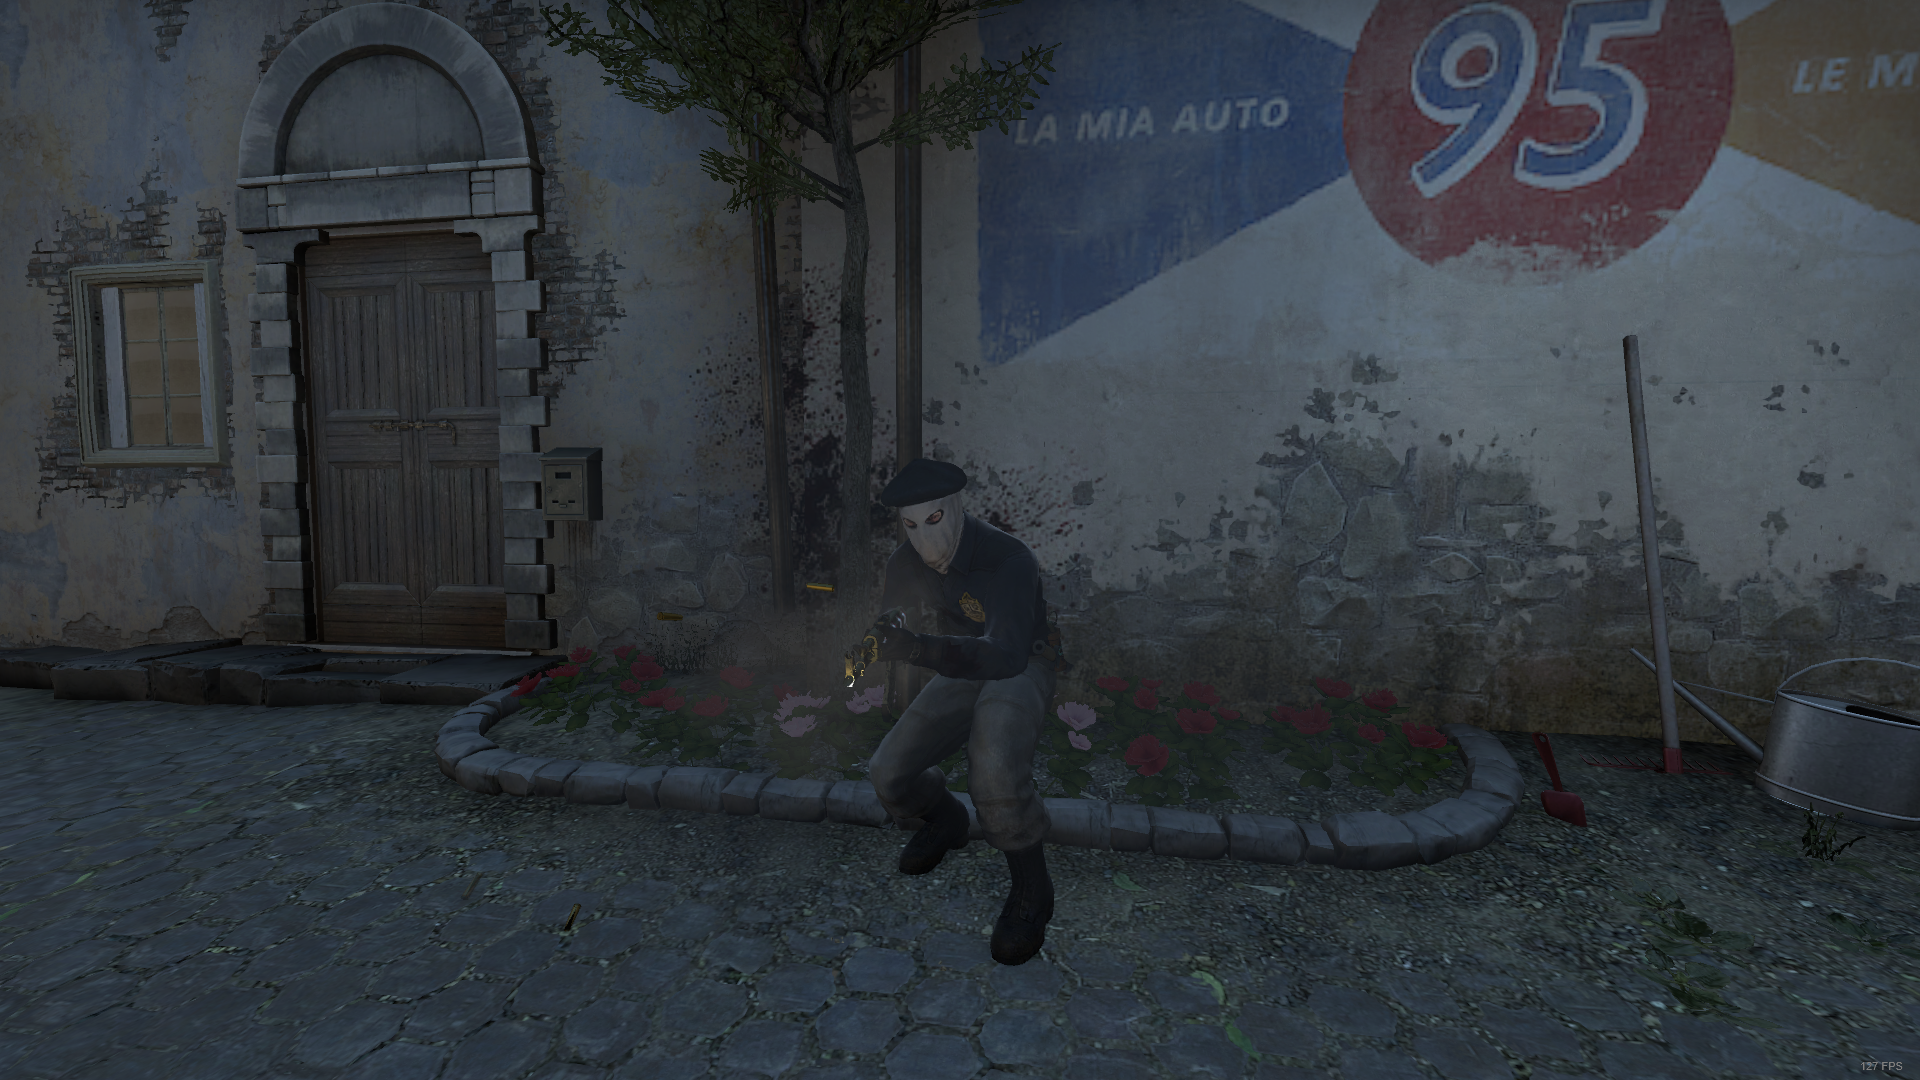t: (833, 448, 1092, 964)
